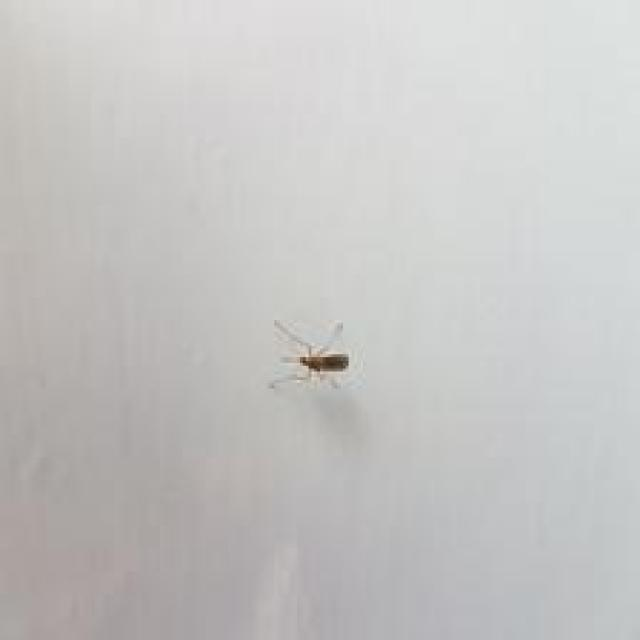Culex: (267, 317, 353, 392)
